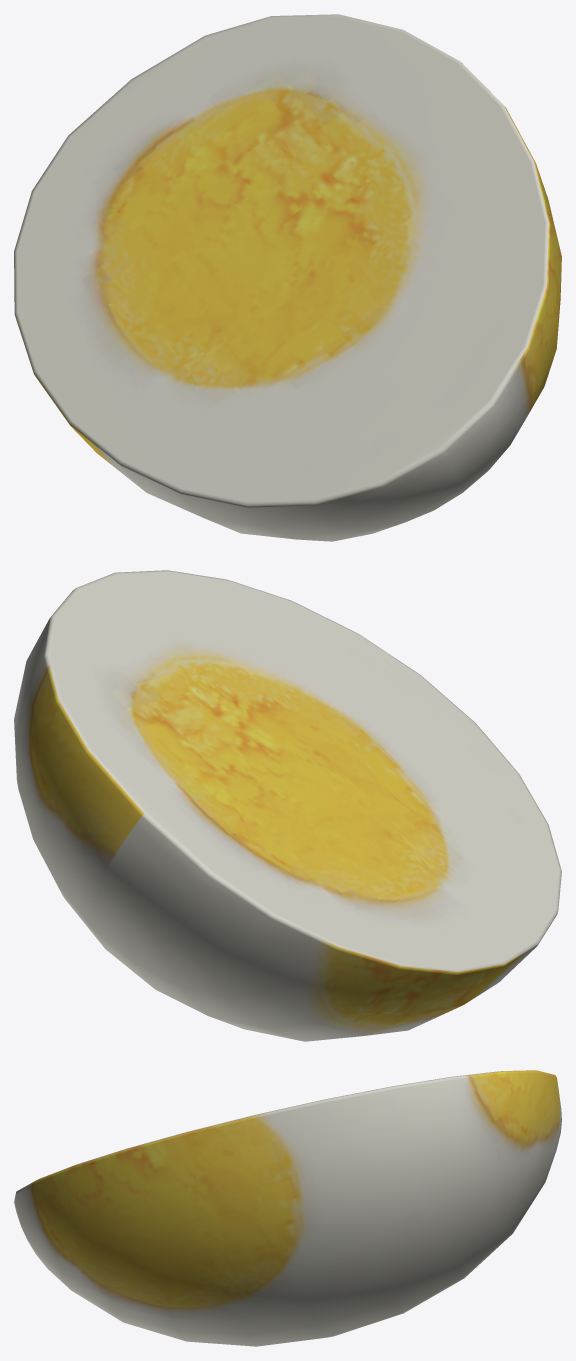
Rendered from BFEggHalf.glb.
The picture shows the model from 3 angles, top to bottom: view 1: azimuth 30°, elevation 25°; view 2: azimuth 150°, elevation 25°; view 3: azimuth 270°, elevation 25°; orthographic projection. The views are drawn at different scales.
Visible parts, largest first — view 1: jidan; view 2: jidan; view 3: jidan.
Part boxes in pixels (x1=…): jidan: x1=14, y1=14, x2=561, y2=541; jidan: x1=14, y1=570, x2=561, y2=1041; jidan: x1=14, y1=1070, x2=561, y2=1346.
Bounding box in the file's own units: 0.6811 × 0.5668 × 0.8706.
1 material, 1 textured.
